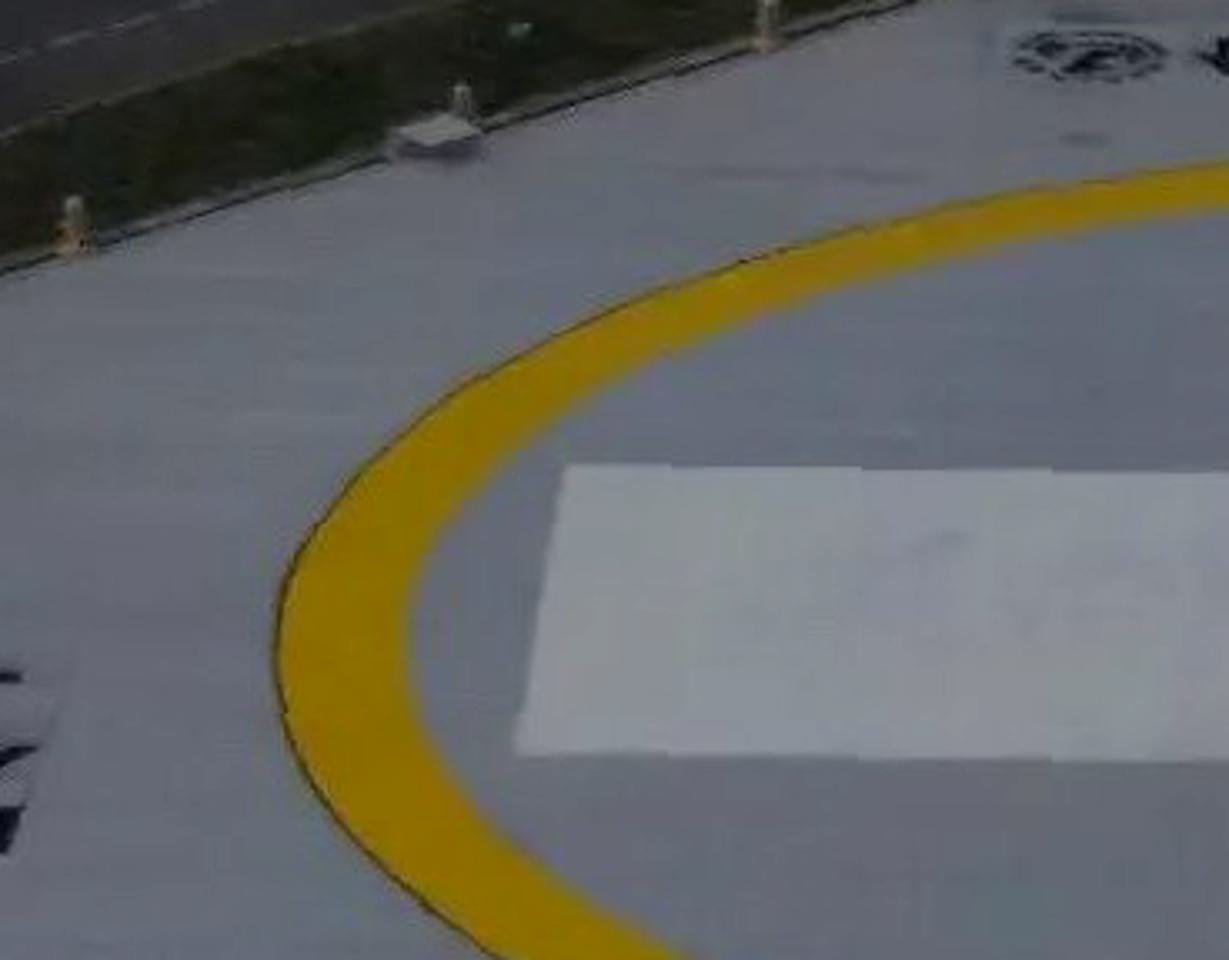Apron: (256, 117, 1229, 960)
